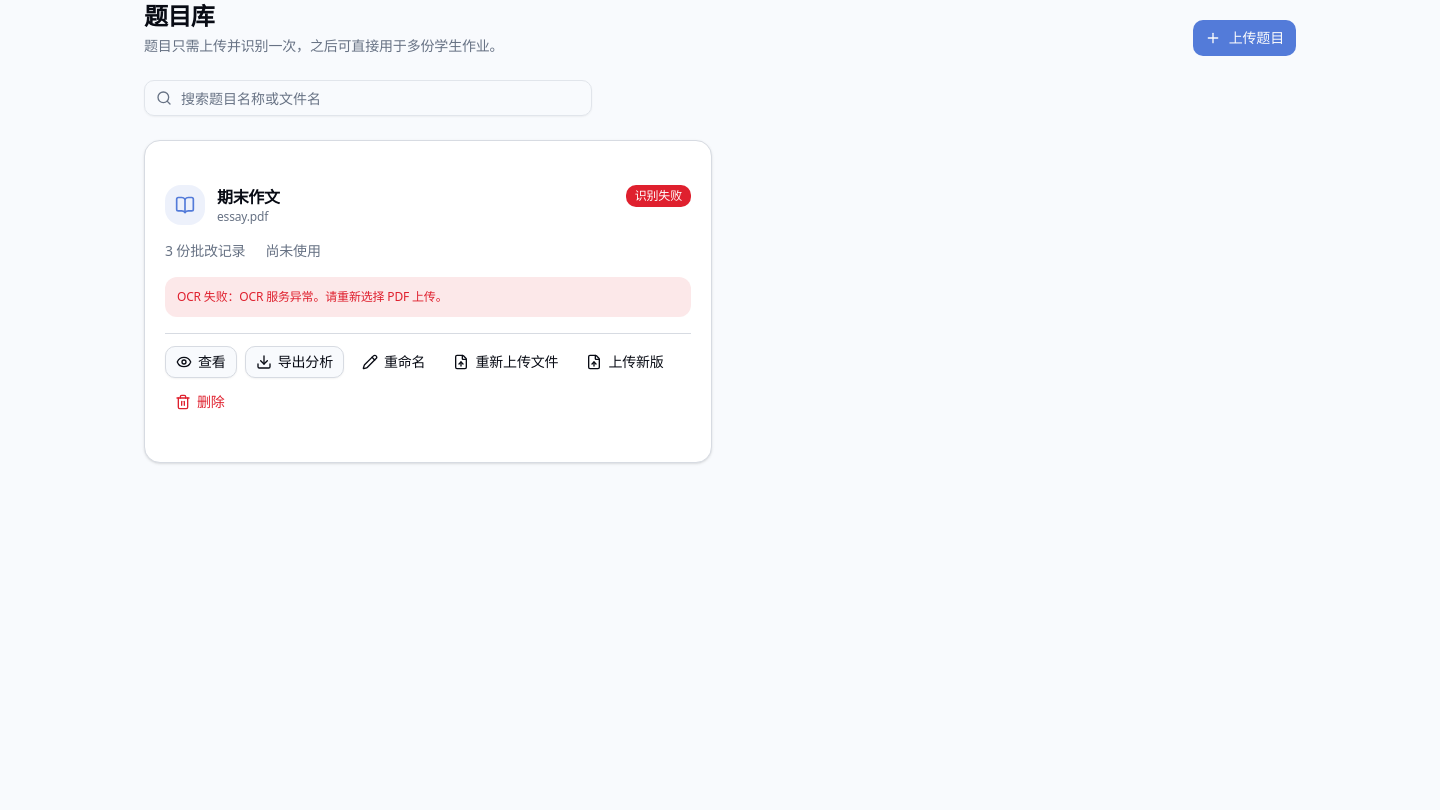
Test: QuestionsPage › 必须输入完整题目名称才能执行危险删除
The image size is (1440, 810).
Click the button "删除" at (200, 402), box [165,386,235,418]
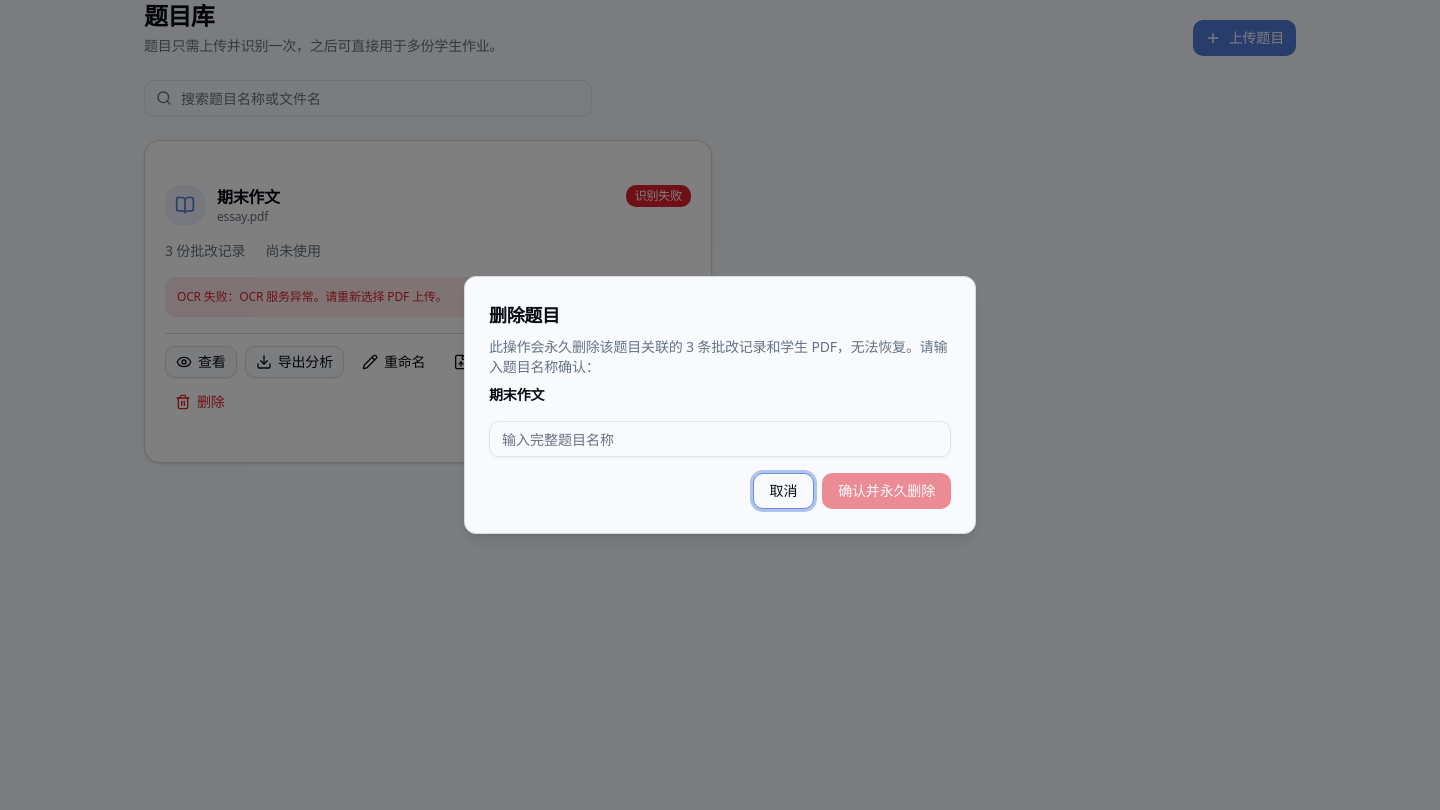
Result: the button "确认并永久删除" is disabled at [822,473,951,509]
Type "期末作文" into the field with placeholder "输入完整题目名称" at (720, 439), box [489,421,951,457]
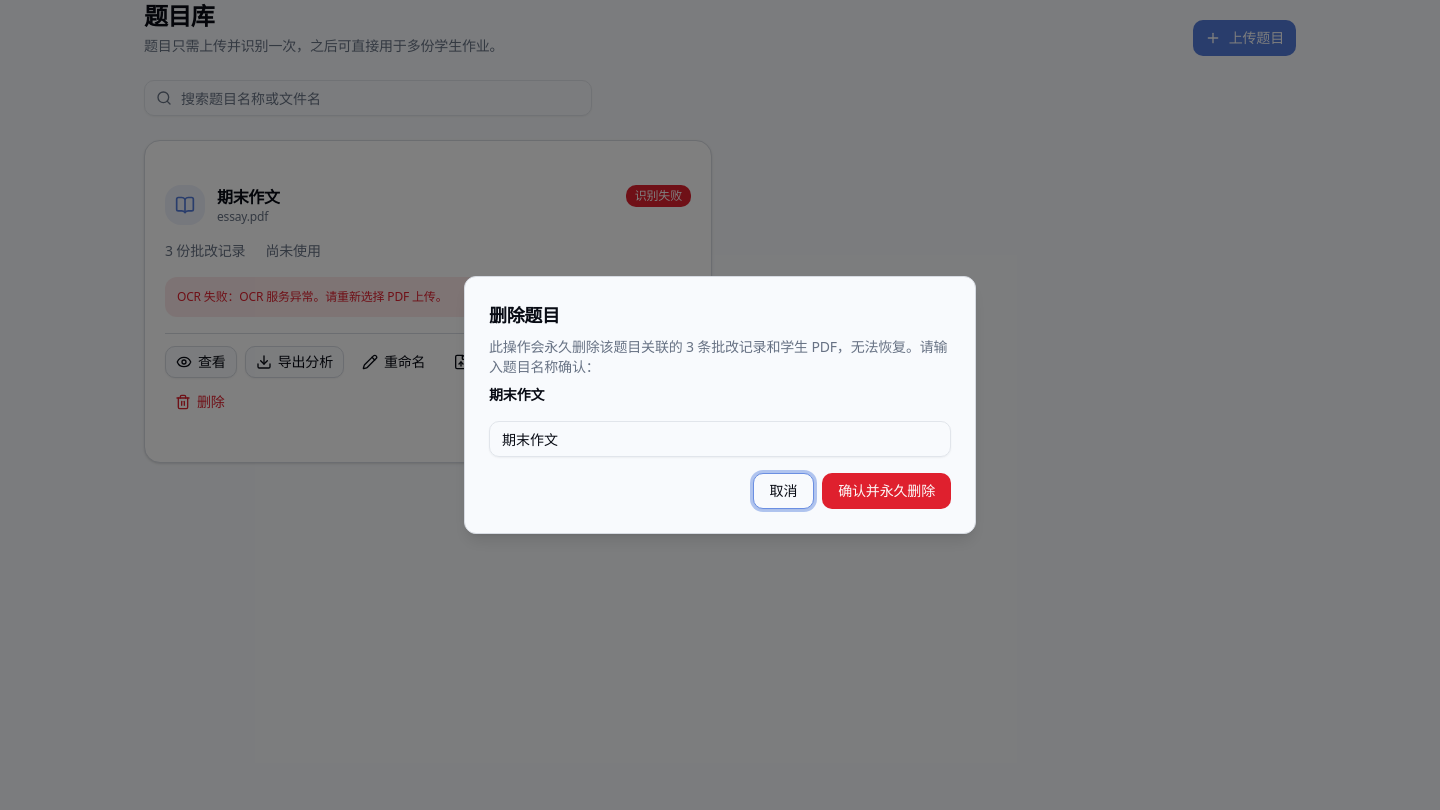
Result: the button "确认并永久删除" is enabled at [822,473,951,509]
